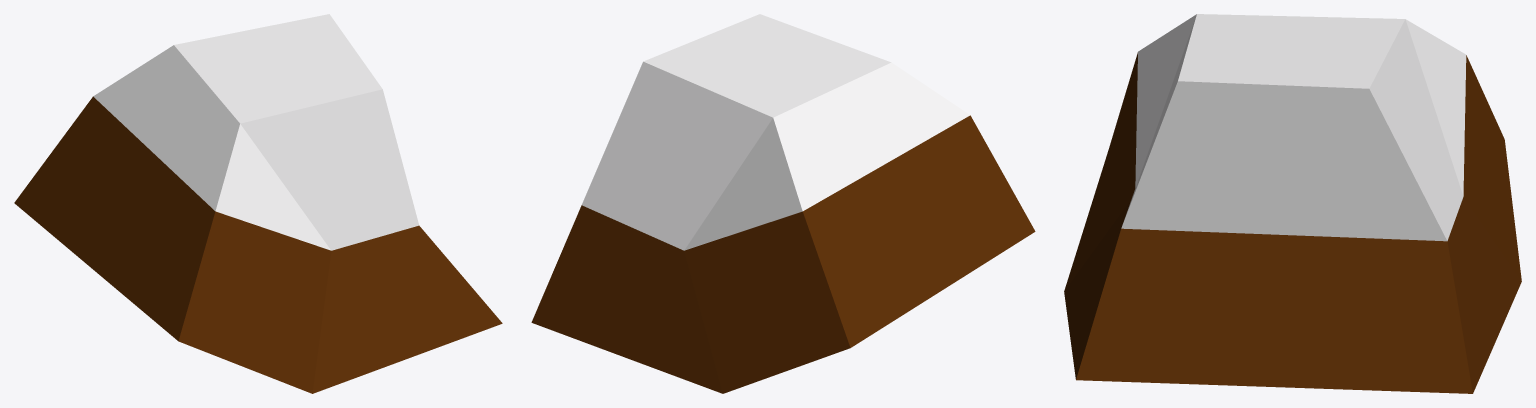
Rendered from coconut03.gltf.
The picture shows the model from 3 angles, left to right: view 1: azimuth 30°, elevation 25°; view 2: azimuth 150°, elevation 25°; view 3: azimuth 270°, elevation 25°; orthographic projection. The views are drawn at different scales.
Visible parts, largest first — view 1: Cylinder; view 2: Cylinder; view 3: Cylinder.
Part boxes in pixels (x1,y1,x2,y2): Cylinder: [14, 14, 502, 393]; Cylinder: [531, 14, 1035, 393]; Cylinder: [1064, 14, 1521, 393].
Bounding box in the file's own units: 0.0214 × 0.0155 × 0.0225.
1 material, 1 textured.
